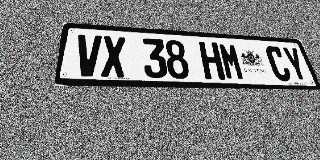3: (143, 38, 168, 78)
8: (164, 40, 190, 79)
C: (264, 46, 293, 81)
H: (198, 42, 225, 80)
M: (218, 43, 246, 80)
V: (74, 34, 102, 77)
X: (101, 36, 126, 77)
Y: (281, 47, 310, 82)
